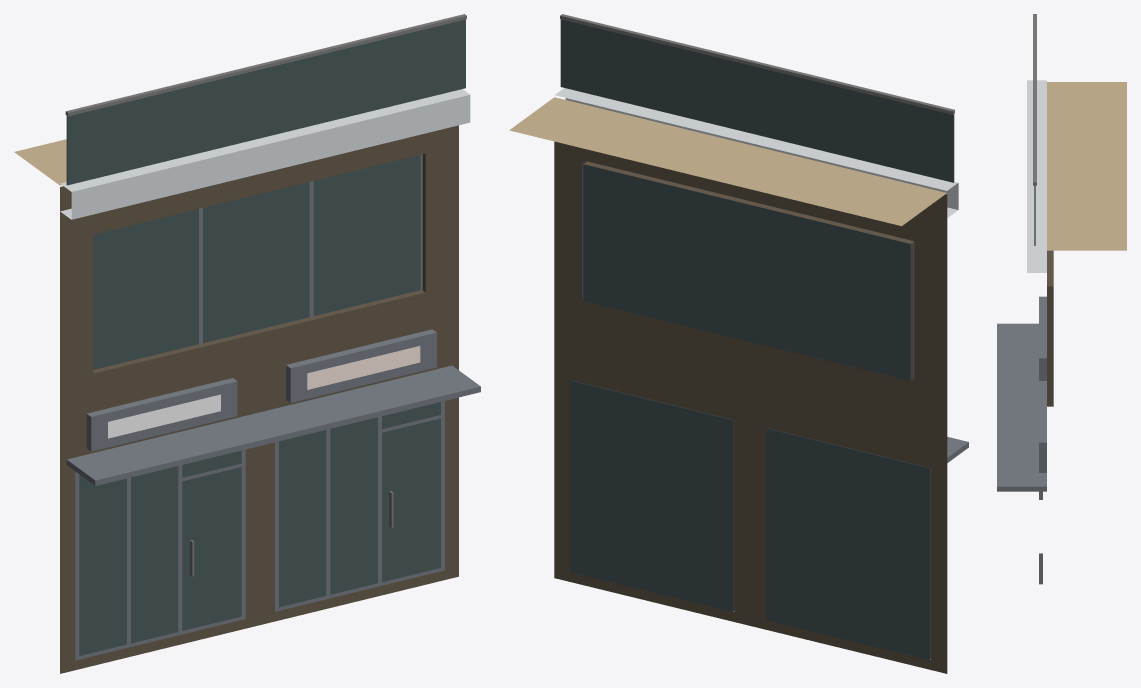
The picture shows the model from 3 angles, left to right: view 1: azimuth 30°, elevation 25°; view 2: azimuth 150°, elevation 25°; view 3: azimuth 270°, elevation 25°; orthographic projection. The views are drawn at different scales.
Visible parts, largest first — view 1: a2010/0/base-w4; view 2: a2010/0/base-w4; view 3: a2010/0/base-w4.
Boxes of the visible parts, x1,y1,x2,y2 form: a2010/0/base-w4: (14,14,480,673); a2010/0/base-w4: (509,14,968,673); a2010/0/base-w4: (997,14,1126,584).
Bounding box in the file's own units: 6 × 8.15 × 1.95.
